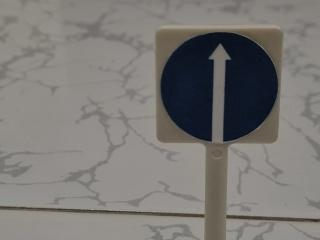straight: (156, 28, 281, 144)
